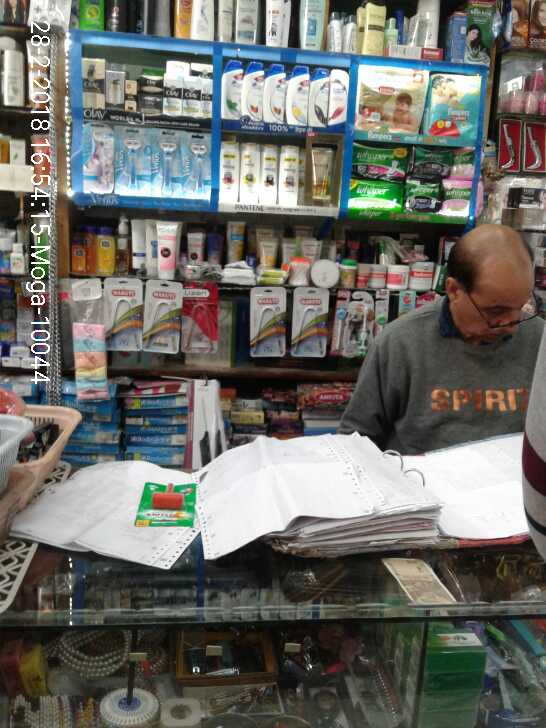venus: (84, 122, 120, 190), (120, 129, 152, 191), (154, 133, 182, 191), (183, 131, 210, 191)
